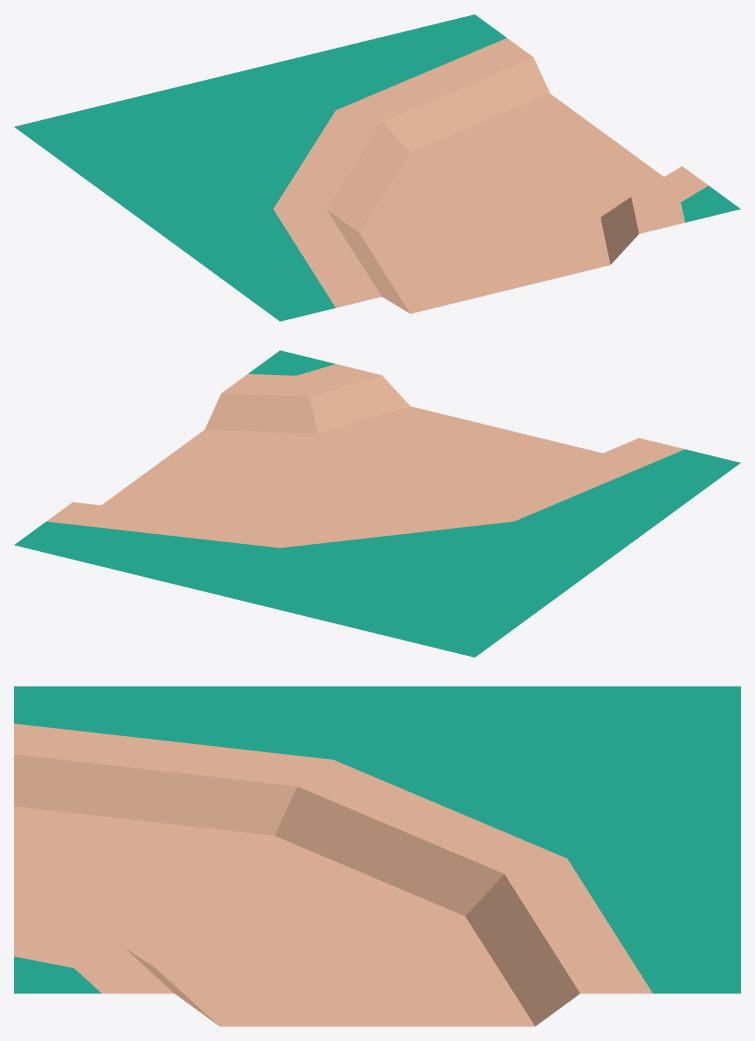
The model's file is ground_pathBend.glb.
3 renders of one model, top to bottom at view 1: azimuth 30°, elevation 25°; view 2: azimuth 150°, elevation 25°; view 3: azimuth 270°, elevation 25°, orthographic. The views are drawn at different scales.
Parts seen in each view (by area): view 1: ground_pathBend; view 2: ground_pathBend; view 3: ground_pathBend.
Part boxes in pixels (x1,y1,x2,y2): ground_pathBend: (14,14,740,321); ground_pathBend: (14,350,740,657); ground_pathBend: (14,686,740,1026).
Size of the model in its own units: 1.16 by 0.0581 by 1.16.
